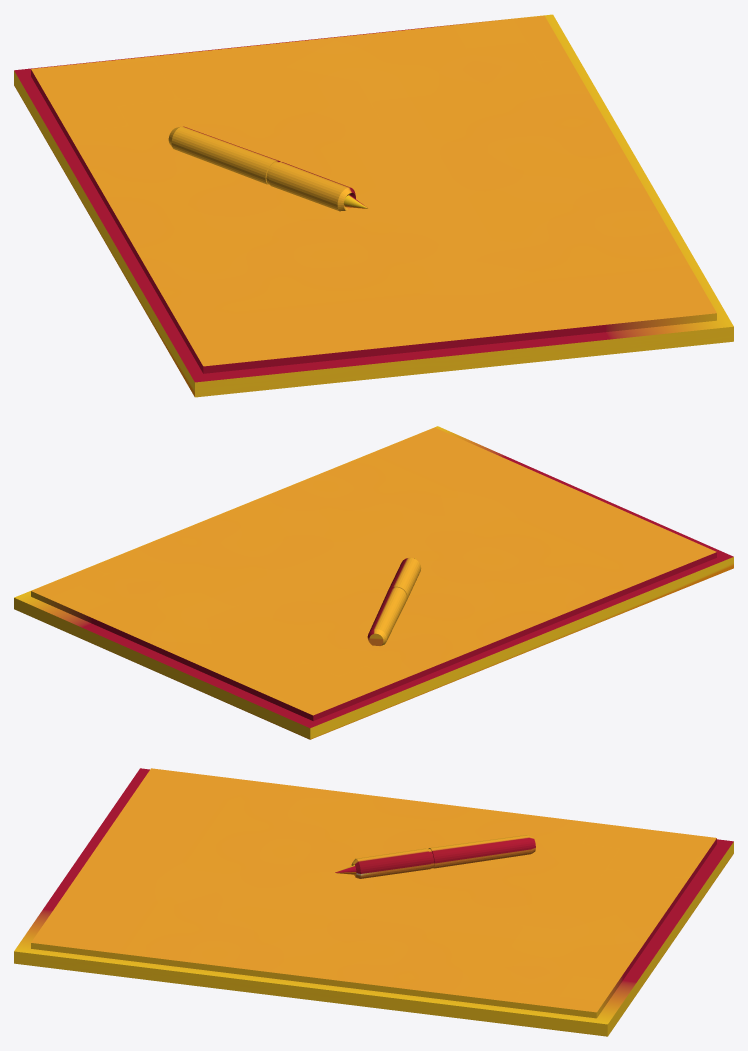
The model's file is book.fbx.
3 renders of one model, top to bottom at view 1: azimuth 30°, elevation 25°; view 2: azimuth 150°, elevation 25°; view 3: azimuth 270°, elevation 25°, orthographic. The views are drawn at different scales.
Visible parts, largest first — view 1: Cube.002; view 2: Cube.002; view 3: Cube.002.
Part boxes in pixels (x1,y1,x2,y2): Cube.002: (14, 14, 733, 397); Cube.002: (14, 426, 733, 739); Cube.002: (14, 768, 733, 1036).
Size of the model in its own units: 107 by 6.67 by 127.
